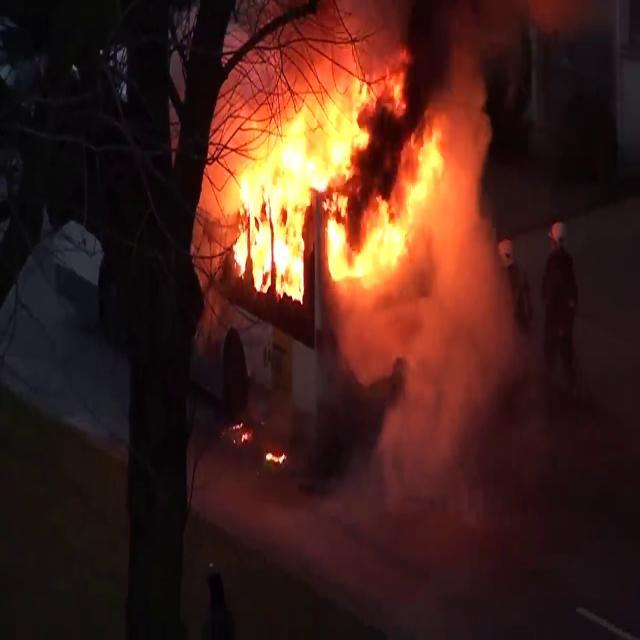Fire: (227, 53, 492, 310)
Smoke: (364, 198, 536, 532)
